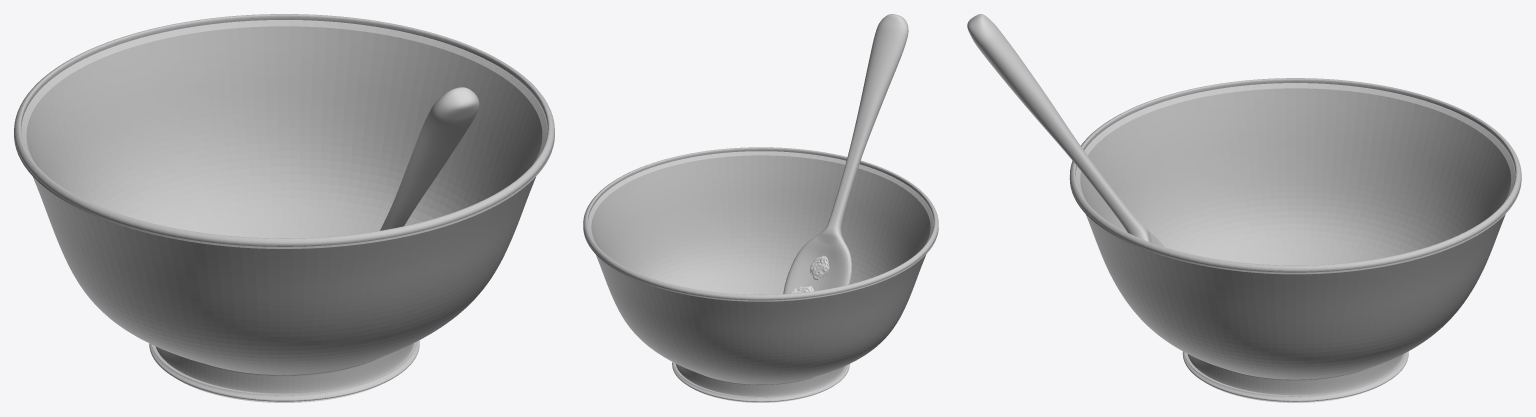
File: tazon.1000.fbx
3 views of the same model, side by side, from view 1: azimuth 30°, elevation 25°; view 2: azimuth 150°, elevation 25°; view 3: azimuth 270°, elevation 25° (orthographic). The views are drawn at different scales.
Visible parts, largest first — view 1: Cylinder, Cube.002; view 2: Cylinder, Cube.002, Icosphere.004; view 3: Cylinder, Cube.002.
Part boxes in pixels (left/top/right/bottom): Cylinder: left=14, top=14, right=554, bottom=402; Cube.002: left=380, top=87, right=479, bottom=230; Cylinder: left=583, top=147, right=938, bottom=402; Cube.002: left=783, top=14, right=908, bottom=293; Icosphere.004: left=792, top=255, right=829, bottom=293; Cylinder: left=1069, top=78, right=1521, bottom=402; Cube.002: left=967, top=14, right=1164, bottom=246.
Bounding box in the file's own units: 409 × 334 × 502.
